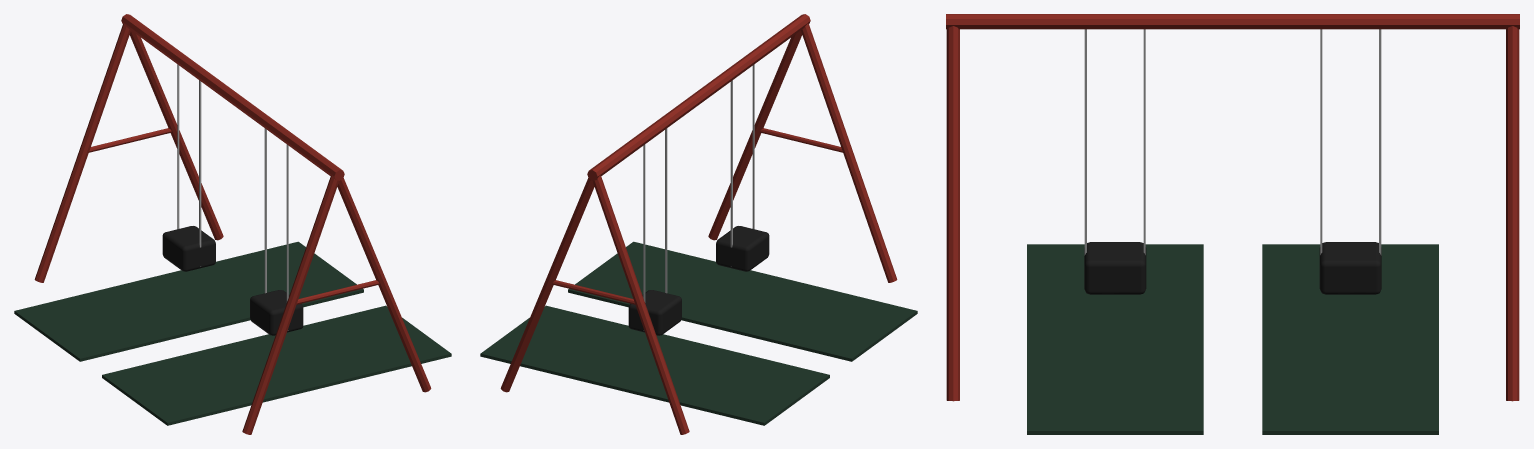
The model's file is SM_Prop_play_swings_1.glb.
3 renders of one model, left to right at view 1: azimuth 30°, elevation 25°; view 2: azimuth 150°, elevation 25°; view 3: azimuth 270°, elevation 25°, orthographic. The views are drawn at different scales.
Parts seen in each view (by area): view 1: SM_Prop_play_swings_1; view 2: SM_Prop_play_swings_1; view 3: SM_Prop_play_swings_1.
Boxes of the visible parts, box(x1,y1,x2,y2) form: SM_Prop_play_swings_1: box(14, 14, 451, 434); SM_Prop_play_swings_1: box(480, 14, 917, 434); SM_Prop_play_swings_1: box(946, 14, 1519, 434).
Size of the model in its own units: 3 by 2.47 by 3.9.
